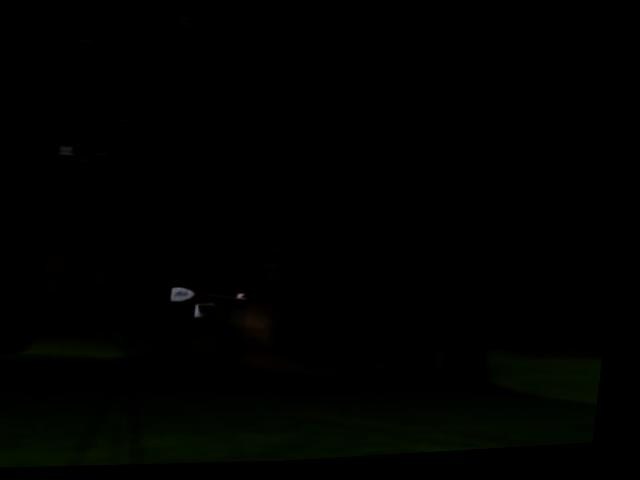flying wing: (171, 280, 256, 331)
